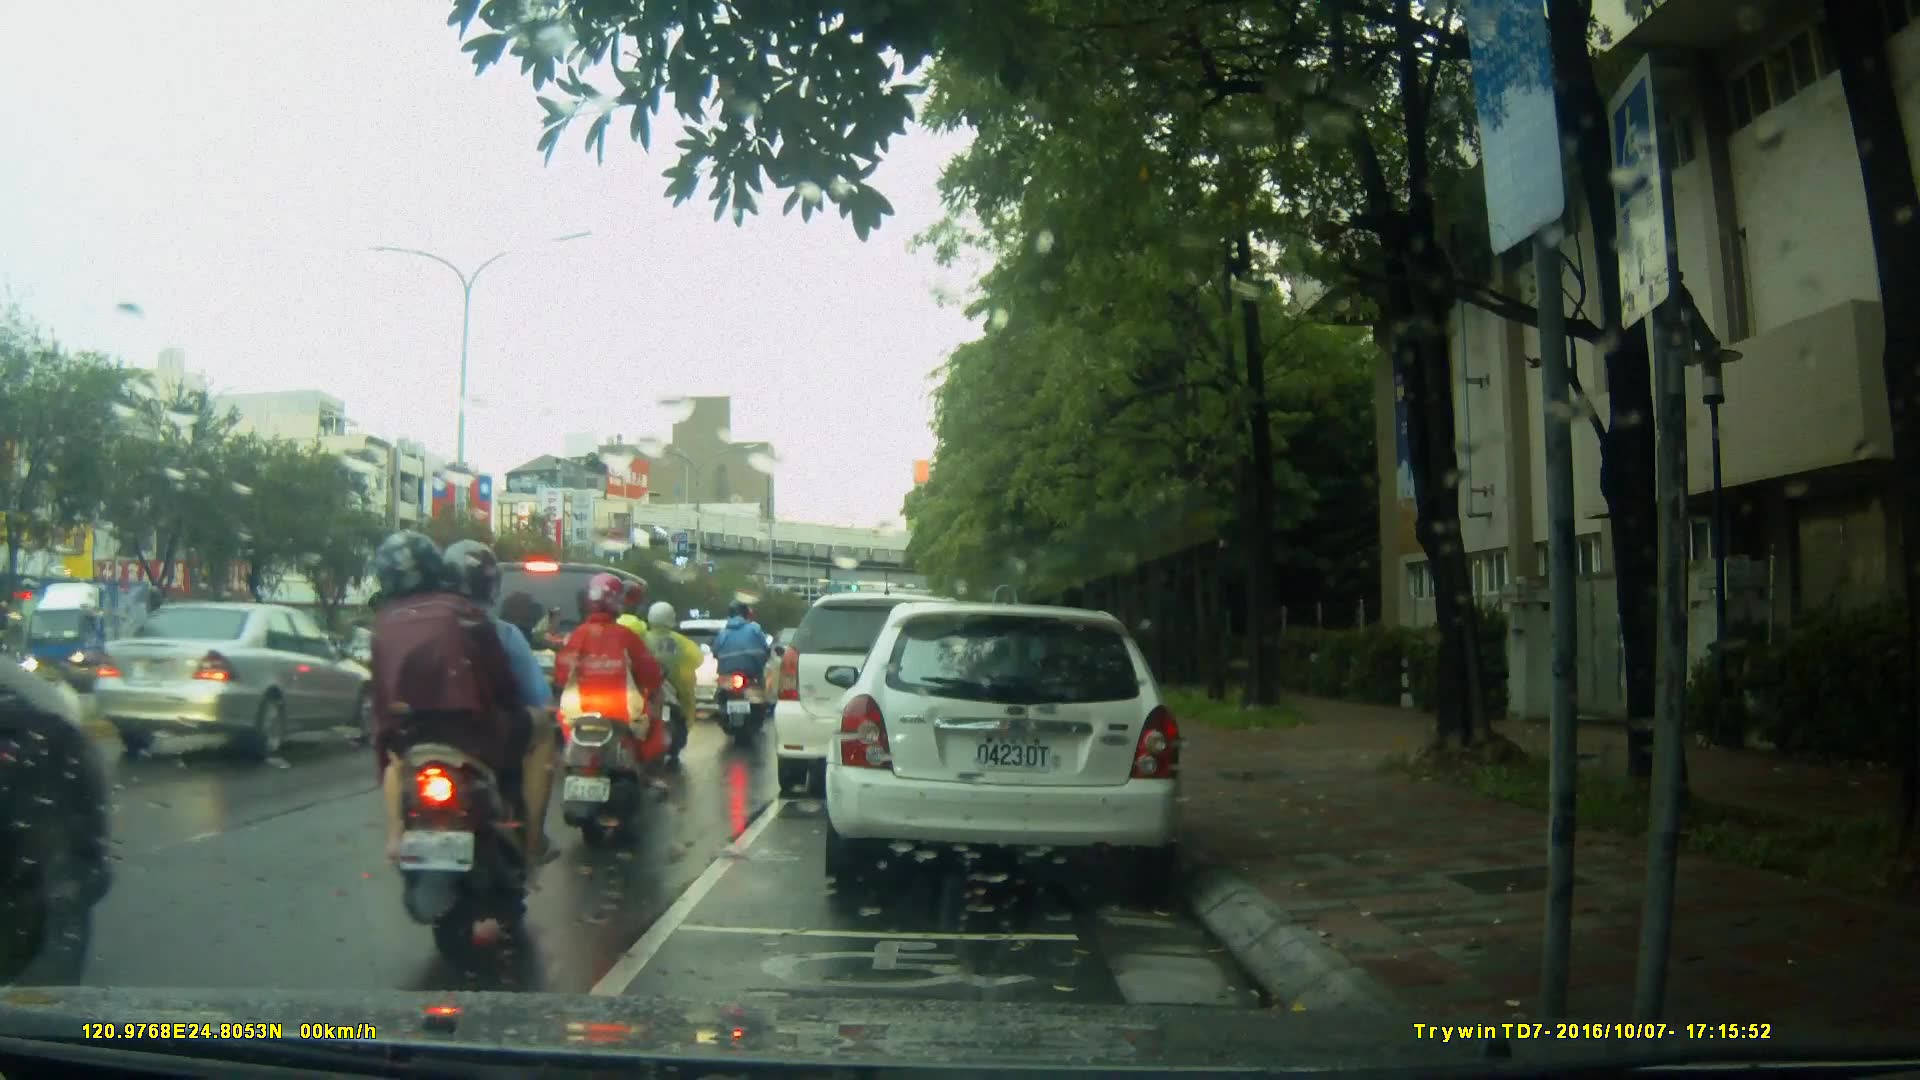rider: (371, 533, 555, 947), (557, 572, 670, 850), (365, 584, 469, 761), (625, 596, 703, 767), (712, 594, 770, 742)
vehicle: (822, 604, 1188, 883), (81, 600, 404, 755), (774, 595, 995, 802), (465, 560, 665, 733), (20, 576, 199, 697)
